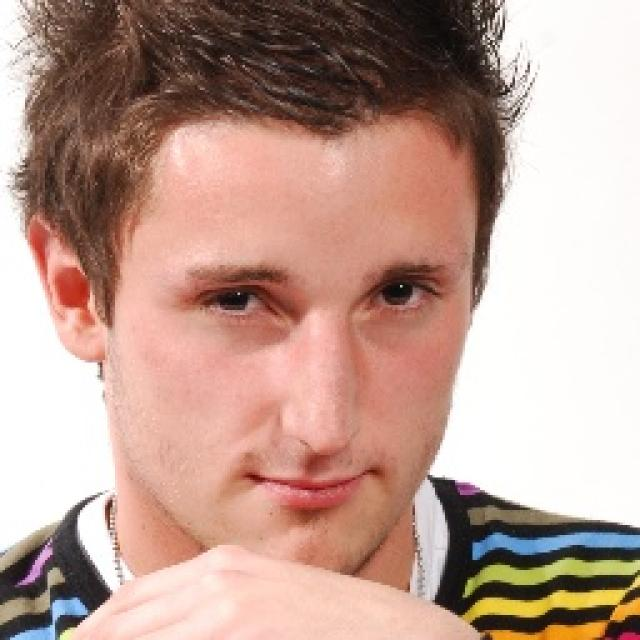earlobe: (23, 207, 112, 363)
